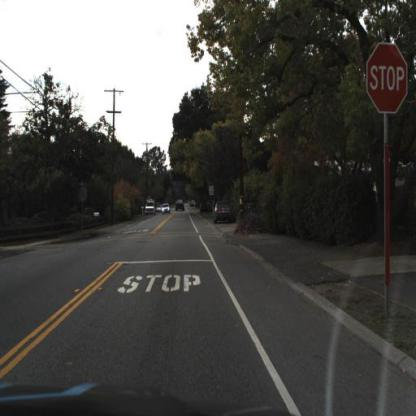car: (214, 201, 234, 227), (143, 201, 159, 217), (175, 197, 185, 214), (161, 203, 171, 218)
